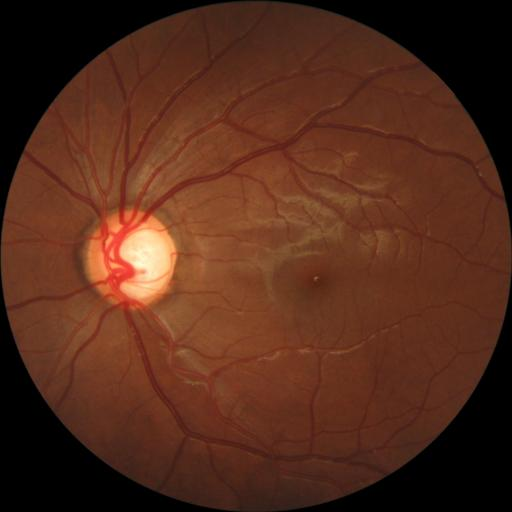Optic Cup: (113, 230, 171, 296)
Optic Disc: (85, 209, 178, 312)
